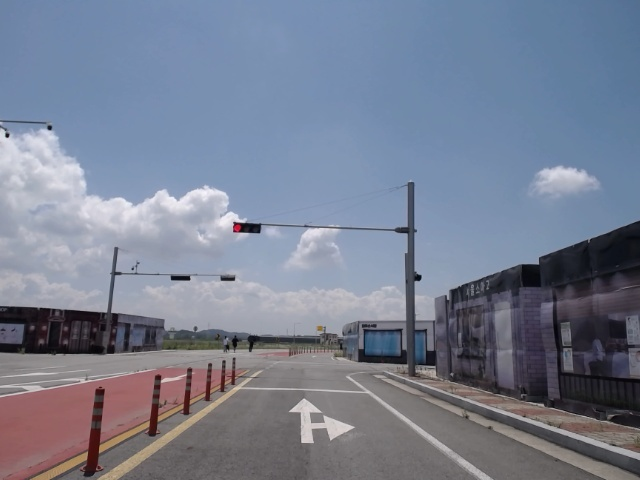red_3: (233, 222, 262, 234)
